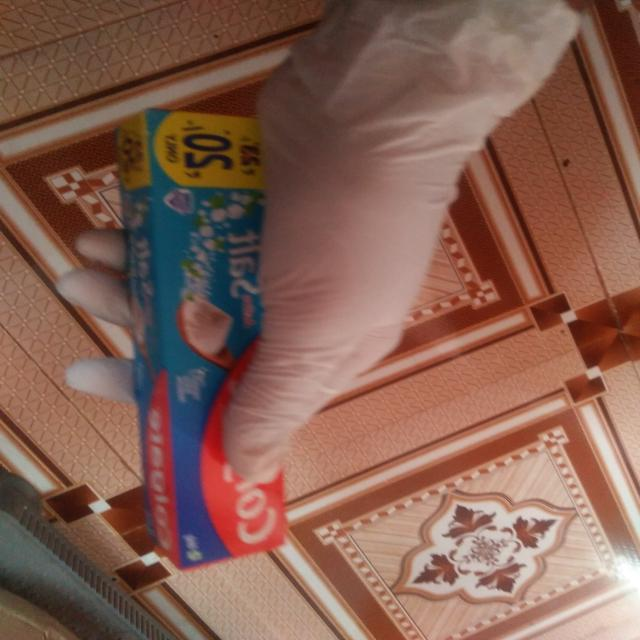gloved_hand: (46, 3, 596, 485)
